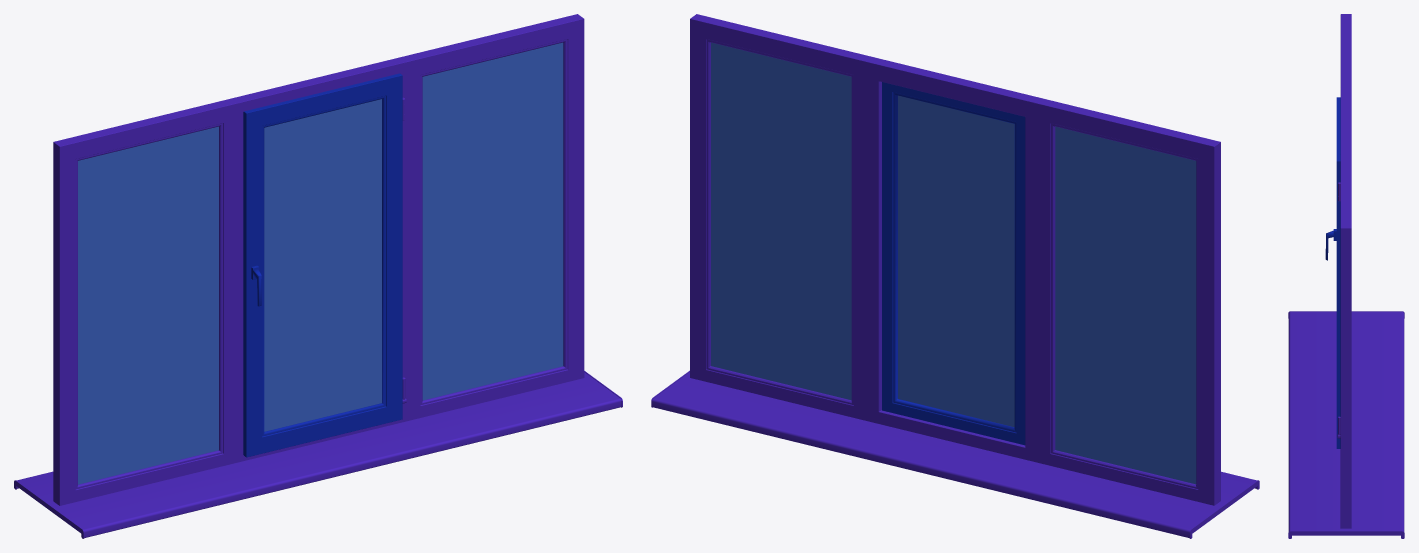
Rendered from BigWindow_Game2.FBX.
3 renders of one model, left to right at view 1: azimuth 30°, elevation 25°; view 2: azimuth 150°, elevation 25°; view 3: azimuth 270°, elevation 25°, orthographic. The views are drawn at different scales.
Parts seen in each view (by area): view 1: Glass (×2), BigWindow_Unwrapped001, BigSill_Unwrapped001, SmallWindowPart_Unwrapped002; view 2: Glass (×2), BigWindow_Unwrapped001, BigSill_Unwrapped001, SmallWindowPart_Unwrapped002; view 3: BigSill_Unwrapped001, BigWindow_Unwrapped001, SmallWindowPart_Unwrapped002.
Boxes of the visible parts, bbox=[...] form: Glass (×2): bbox=[78, 42, 563, 484]; BigWindow_Unwrapped001: bbox=[53, 14, 584, 505]; BigSill_Unwrapped001: bbox=[14, 371, 622, 538]; SmallWindowPart_Unwrapped002: bbox=[243, 73, 402, 457]; Glass (×2): bbox=[711, 42, 1196, 484]; BigWindow_Unwrapped001: bbox=[690, 14, 1220, 505]; BigSill_Unwrapped001: bbox=[651, 370, 1259, 538]; SmallWindowPart_Unwrapped002: bbox=[882, 82, 1025, 445]; BigSill_Unwrapped001: bbox=[1288, 311, 1404, 538]; BigWindow_Unwrapped001: bbox=[1337, 14, 1351, 528]; SmallWindowPart_Unwrapped002: bbox=[1333, 97, 1340, 448].
Size of the model in its own units: 274 by 179 by 61.15.
